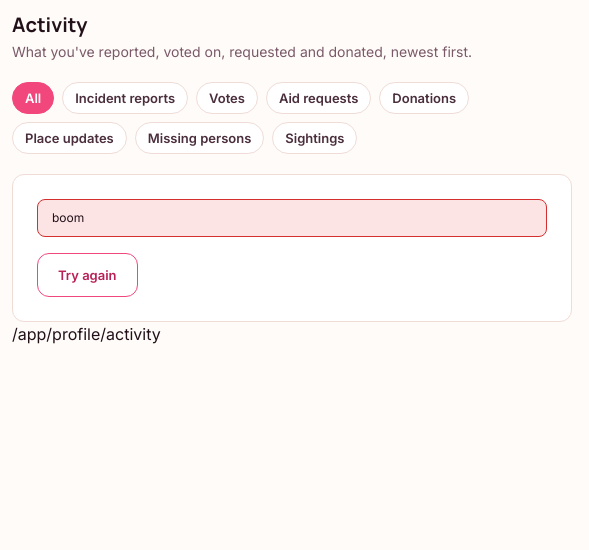
Test case: ActivityPage › shows a first-page failure with a retry, and recovers when the retry succeeds
This screenshot has width=589, height=550.
Expected: the message reads "boom", [52,210,84,225]
What coordinates should you click on to do the following:
click the button named "Try again"
I would click on:
 (87, 275)
Its box is [37,253,138,297].
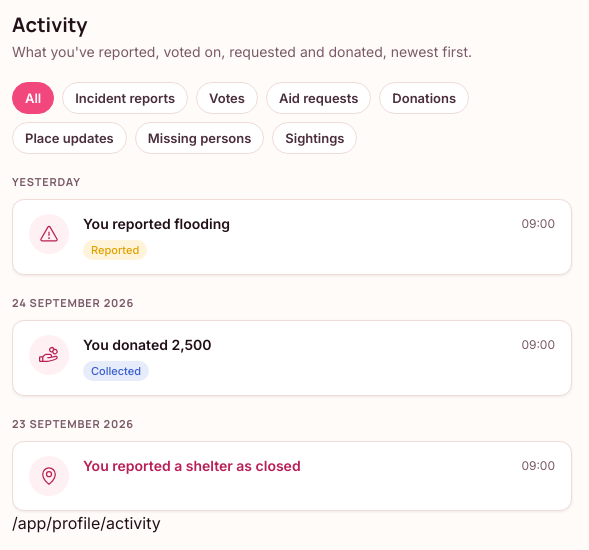
Expected: the text "You reported flooding" is shown, [83,214,230,232]
